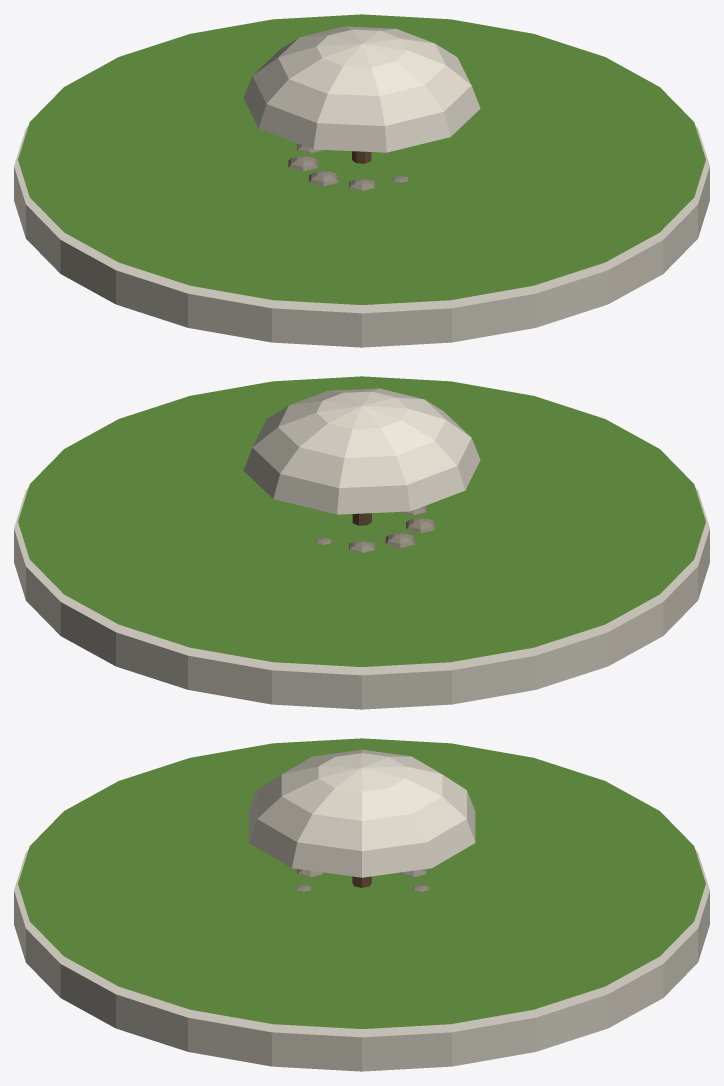
File: rb_leafytree.glb
3 renders of one model, top to bottom at view 1: azimuth 30°, elevation 25°; view 2: azimuth 150°, elevation 25°; view 3: azimuth 270°, elevation 25°, orthographic.
Parts seen in each view (by area): view 1: rb_leafytree_lod0; view 2: rb_leafytree_lod0; view 3: rb_leafytree_lod0.
Boxes of the visible parts, left/top/right/bottom form: rb_leafytree_lod0: left=14, top=14, right=709, bottom=347; rb_leafytree_lod0: left=14, top=376, right=709, bottom=709; rb_leafytree_lod0: left=14, top=738, right=709, bottom=1071.
Size of what is drawn, in the model's own units: 35 by 8.69 by 35.
